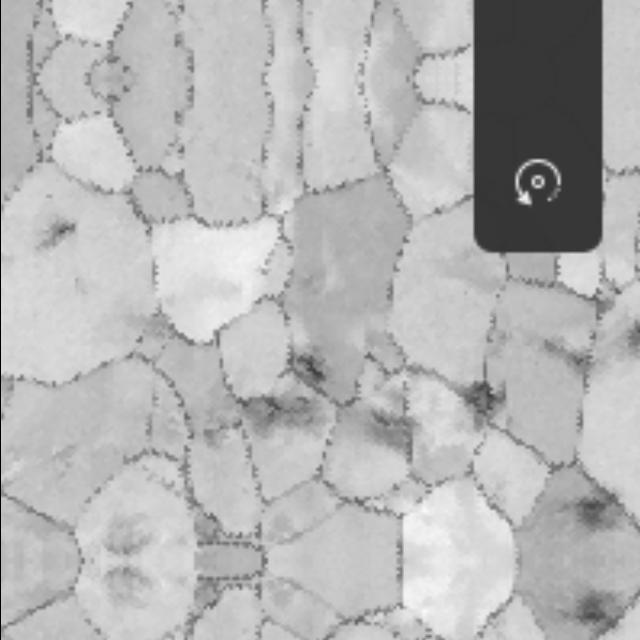good_void: (198, 379, 325, 448), (434, 357, 524, 451), (80, 491, 176, 572), (80, 549, 176, 630), (349, 394, 437, 462), (531, 317, 603, 391), (12, 203, 95, 266), (558, 479, 624, 540), (558, 581, 624, 640), (283, 341, 347, 393), (603, 316, 640, 367), (591, 294, 620, 324)
